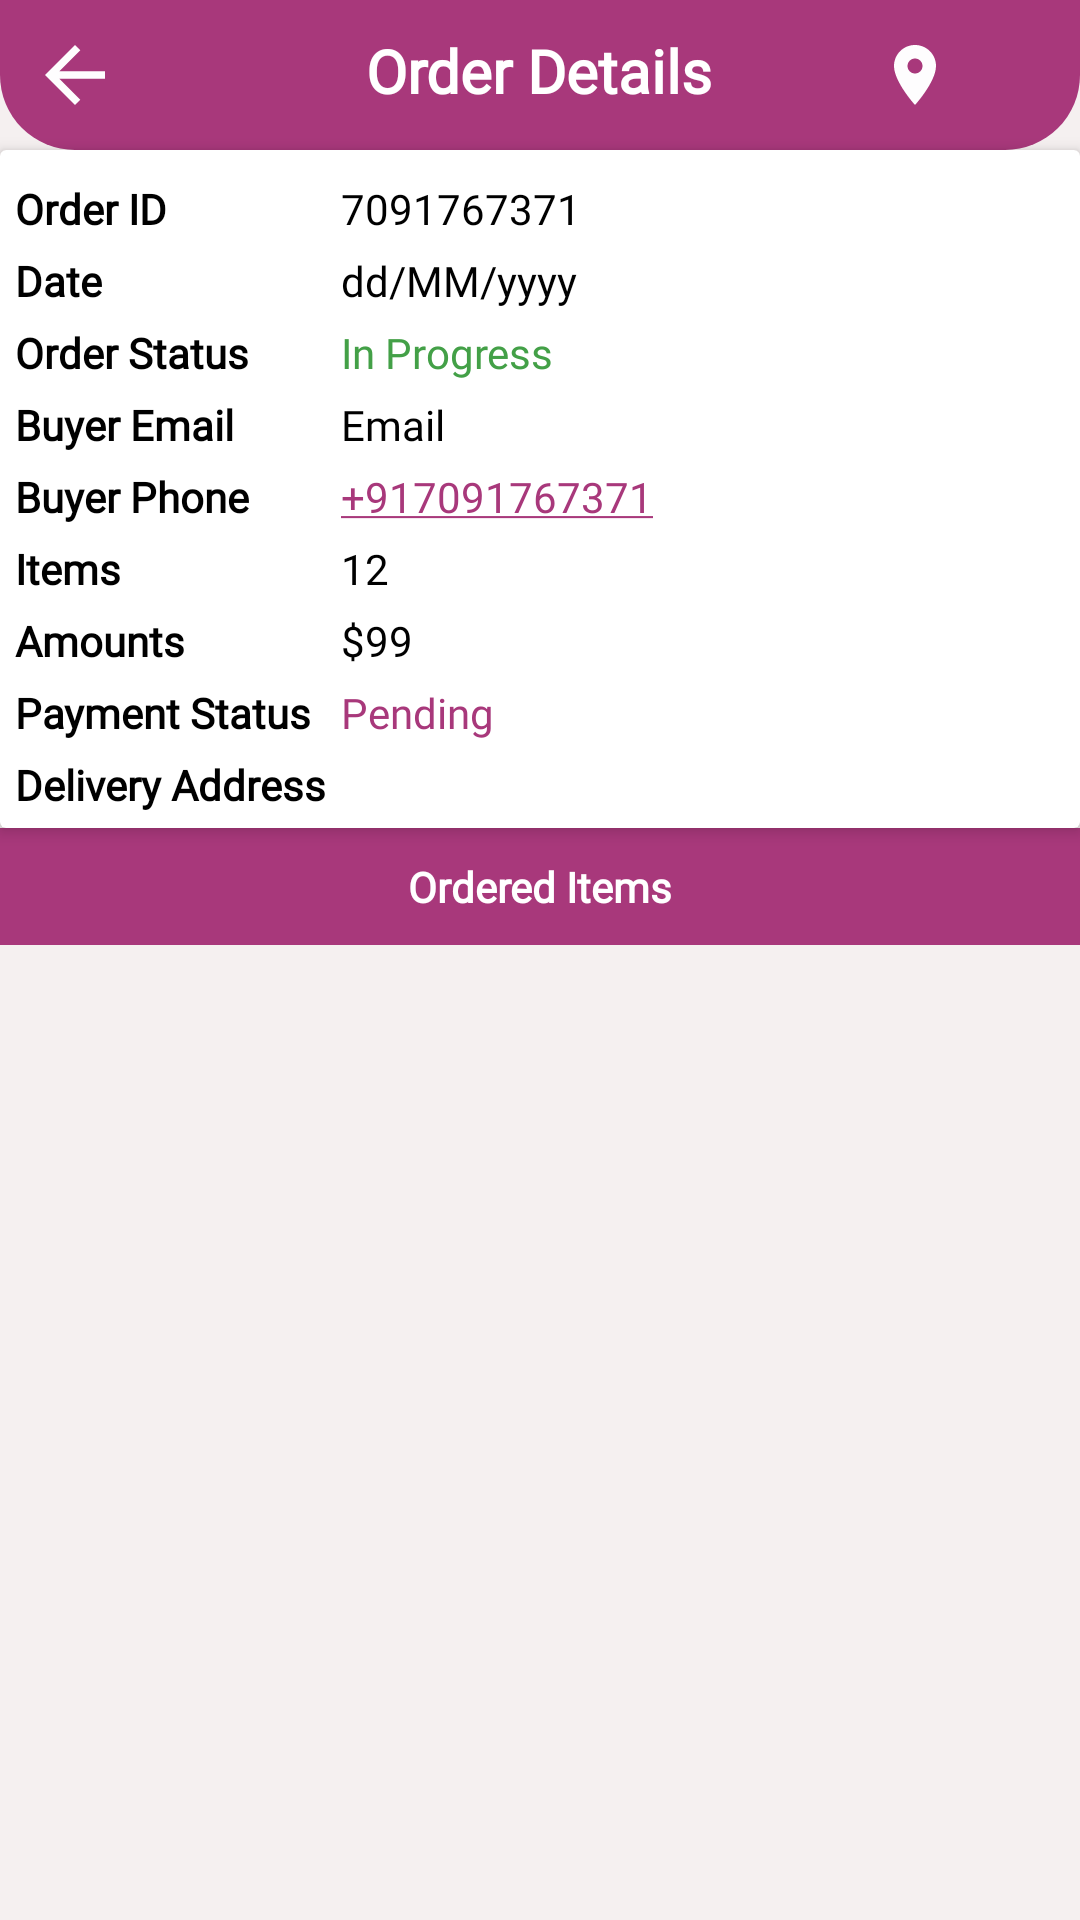

Screen size 1080px x 1920px. Icon name, then its center in pixels as [x,y]:
back: [75,75]
location: [915,75]
